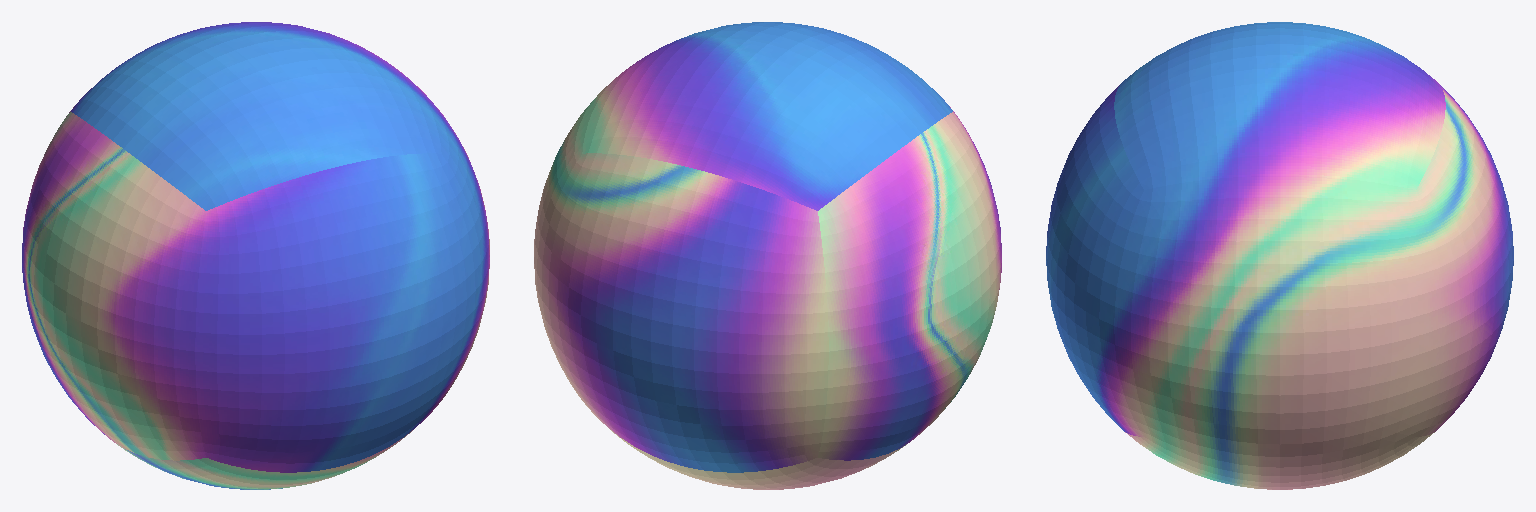
3 views of the same model, side by side, from view 1: azimuth 30°, elevation 25°; view 2: azimuth 150°, elevation 25°; view 3: azimuth 270°, elevation 25° (orthographic).
Parts seen in each view (by area): view 1: wooden_sphere; view 2: wooden_sphere; view 3: wooden_sphere.
Part boxes in pixels (bbox=[...]): wooden_sphere: bbox=[22, 22, 489, 489]; wooden_sphere: bbox=[534, 22, 1001, 489]; wooden_sphere: bbox=[1046, 22, 1513, 489].
Size of the model in its own units: 6.97 by 6.97 by 6.97.
Materials: 1 (1 with a texture image).